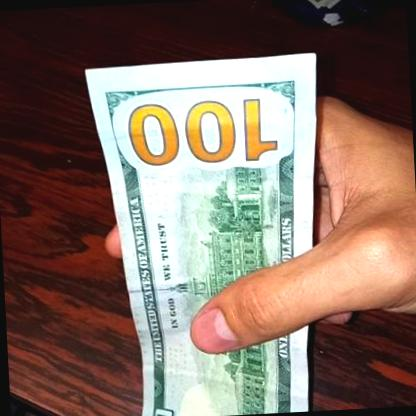one_hundred-back: (79, 48, 337, 416)
